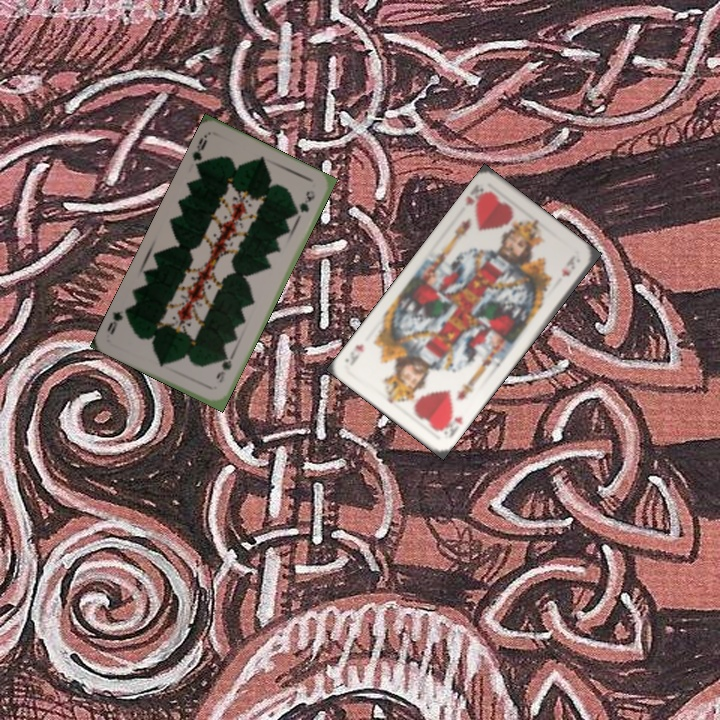G9: (188, 130, 210, 172), (213, 353, 235, 385)
HK: (461, 180, 491, 214), (436, 410, 466, 441)
